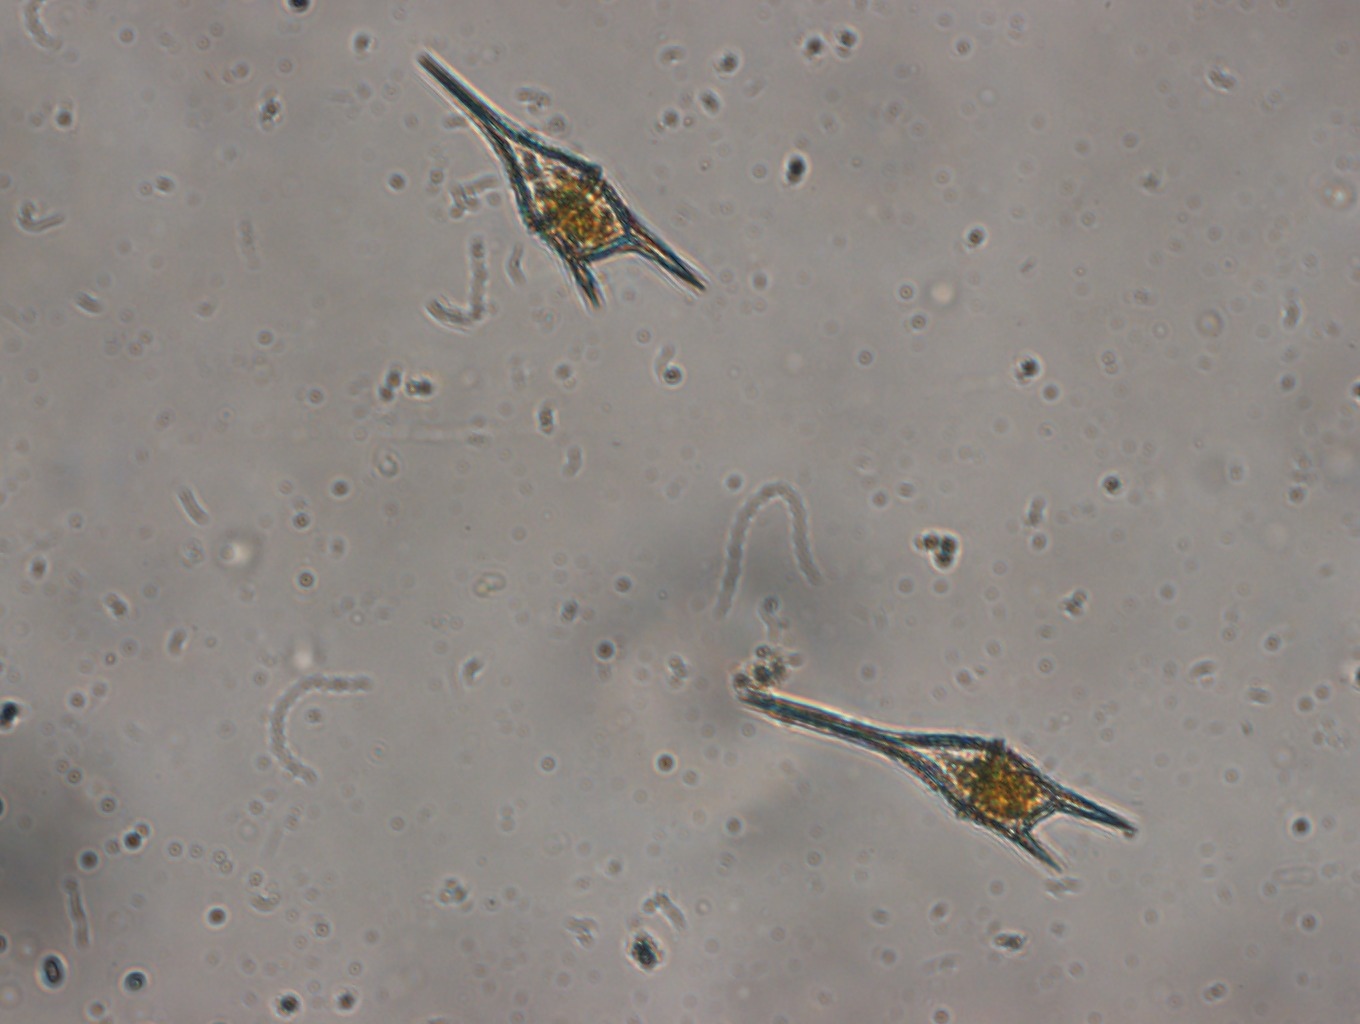ceratium furca: (729, 677, 1146, 874), (410, 42, 712, 313)
